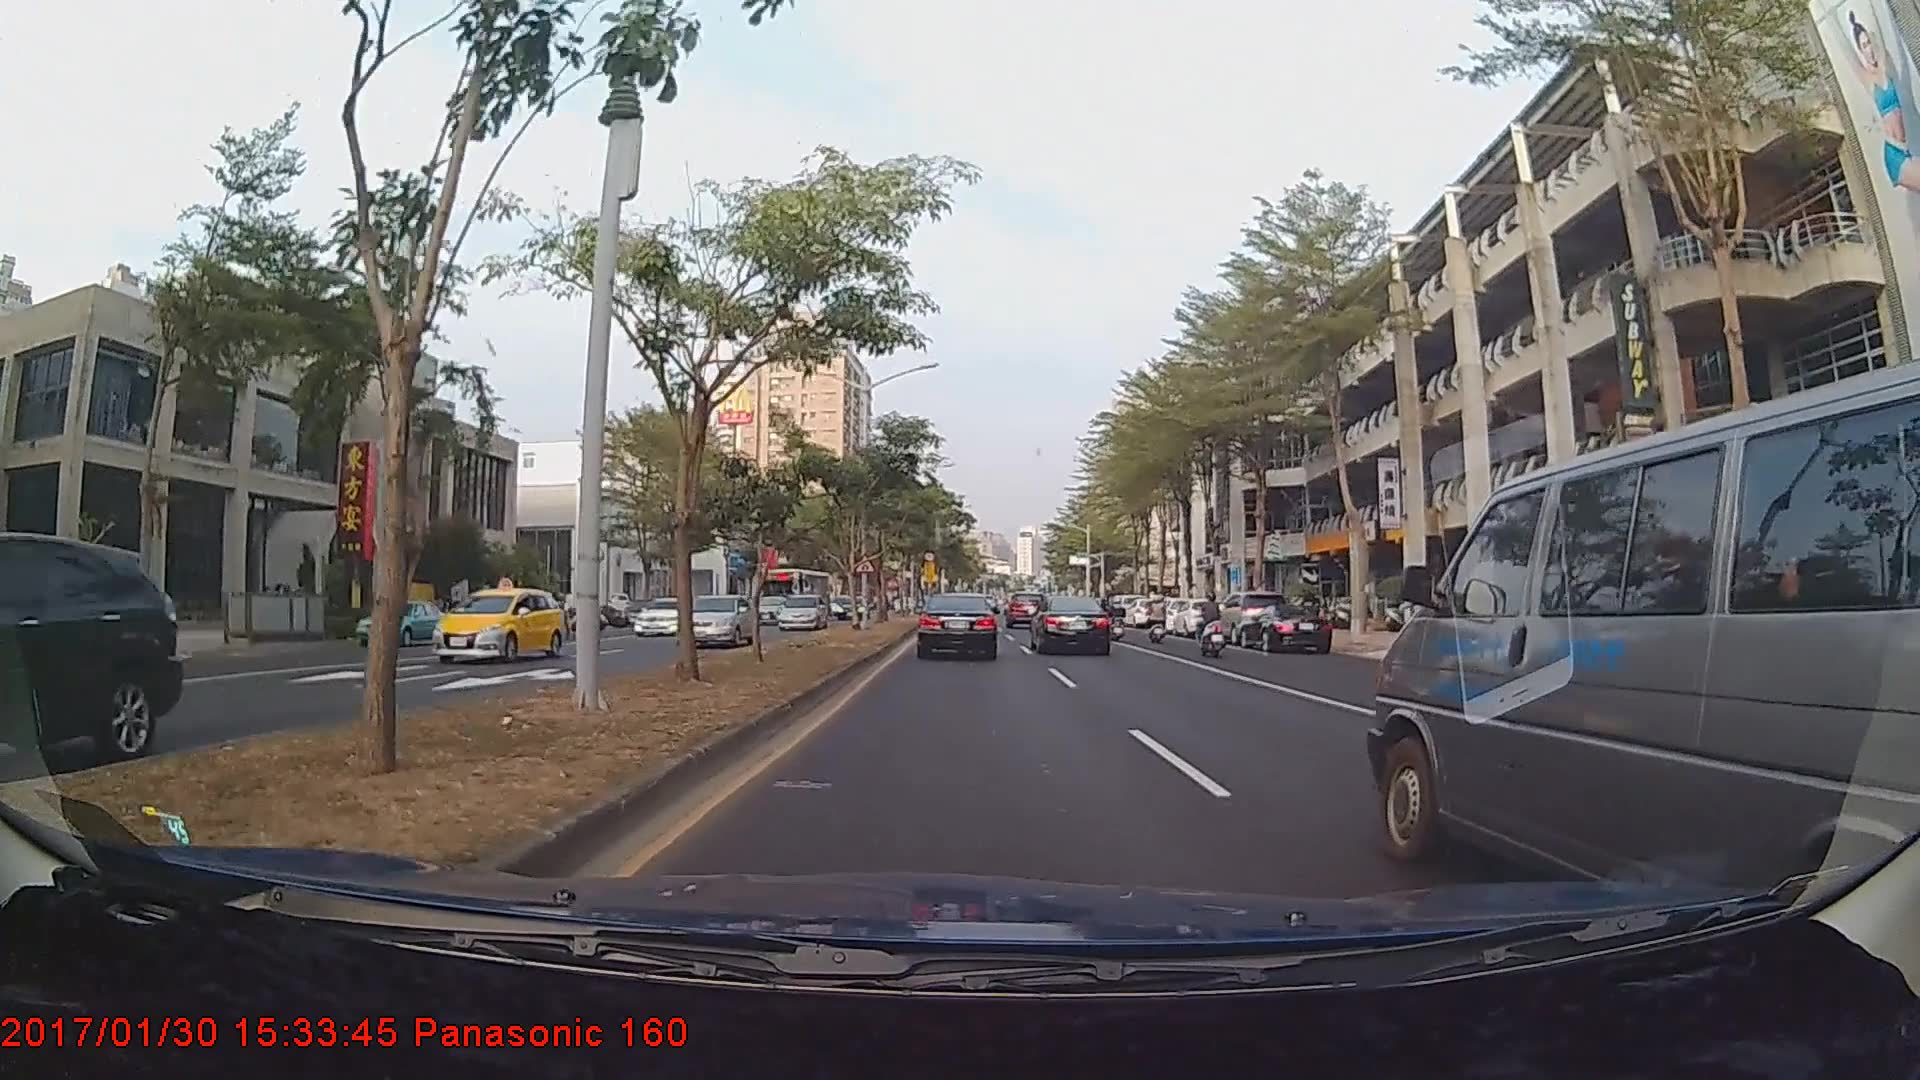rider: (1192, 592, 1238, 662), (1144, 588, 1174, 646)
vehicle: (1371, 402, 1906, 910), (0, 529, 181, 806), (428, 585, 565, 666), (917, 591, 1000, 661), (1030, 594, 1111, 656), (1211, 590, 1290, 646), (352, 599, 446, 646), (758, 568, 835, 627), (1241, 604, 1333, 652), (680, 594, 756, 648), (633, 596, 699, 638), (1171, 599, 1232, 638), (777, 592, 827, 632), (1006, 592, 1047, 629), (833, 595, 867, 620)
